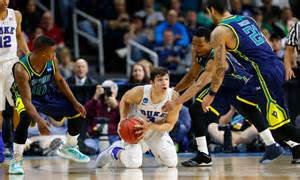basketball: (121, 119, 142, 142)
